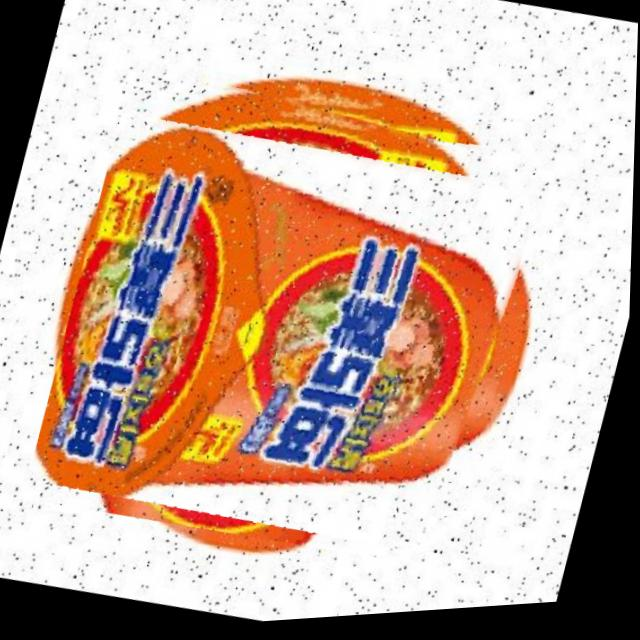Miscellaneous: (23, 39, 568, 599)
